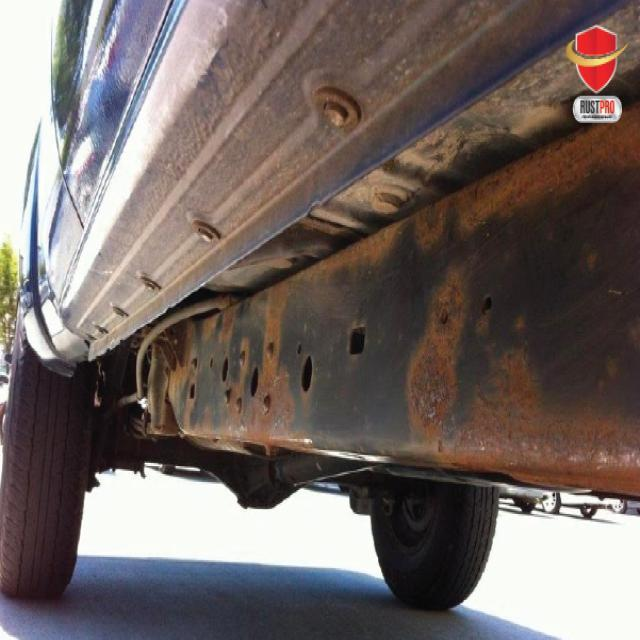corrosion: (431, 347, 639, 498), (454, 100, 639, 233), (407, 267, 469, 441), (292, 223, 399, 287), (267, 286, 295, 435), (317, 79, 364, 137), (340, 180, 391, 218), (407, 210, 444, 252), (152, 401, 184, 441), (230, 365, 245, 447), (194, 217, 221, 261), (299, 356, 316, 411), (163, 351, 180, 379), (221, 306, 232, 340)
